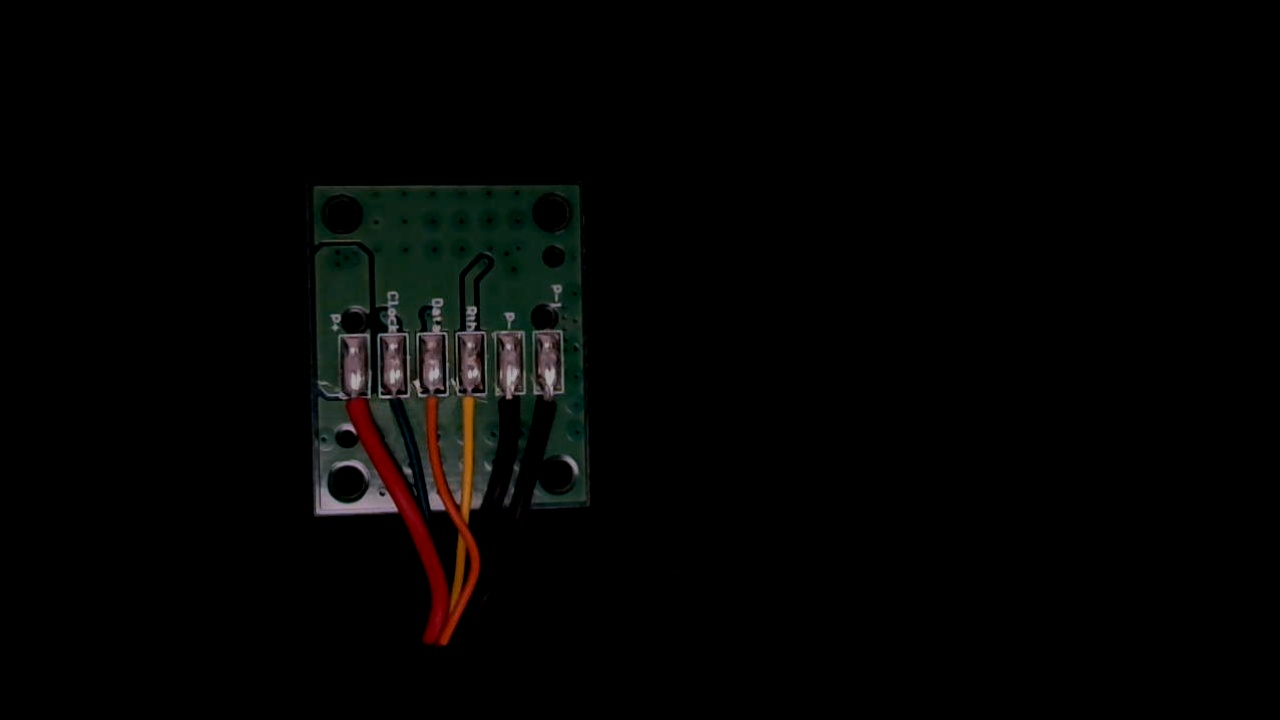Black: (491, 376, 525, 449)
Black1: (532, 378, 565, 445)
Green: (379, 377, 411, 433)
Orange: (417, 378, 449, 441)
Red: (341, 374, 375, 444)
Yellow: (452, 378, 486, 452)
